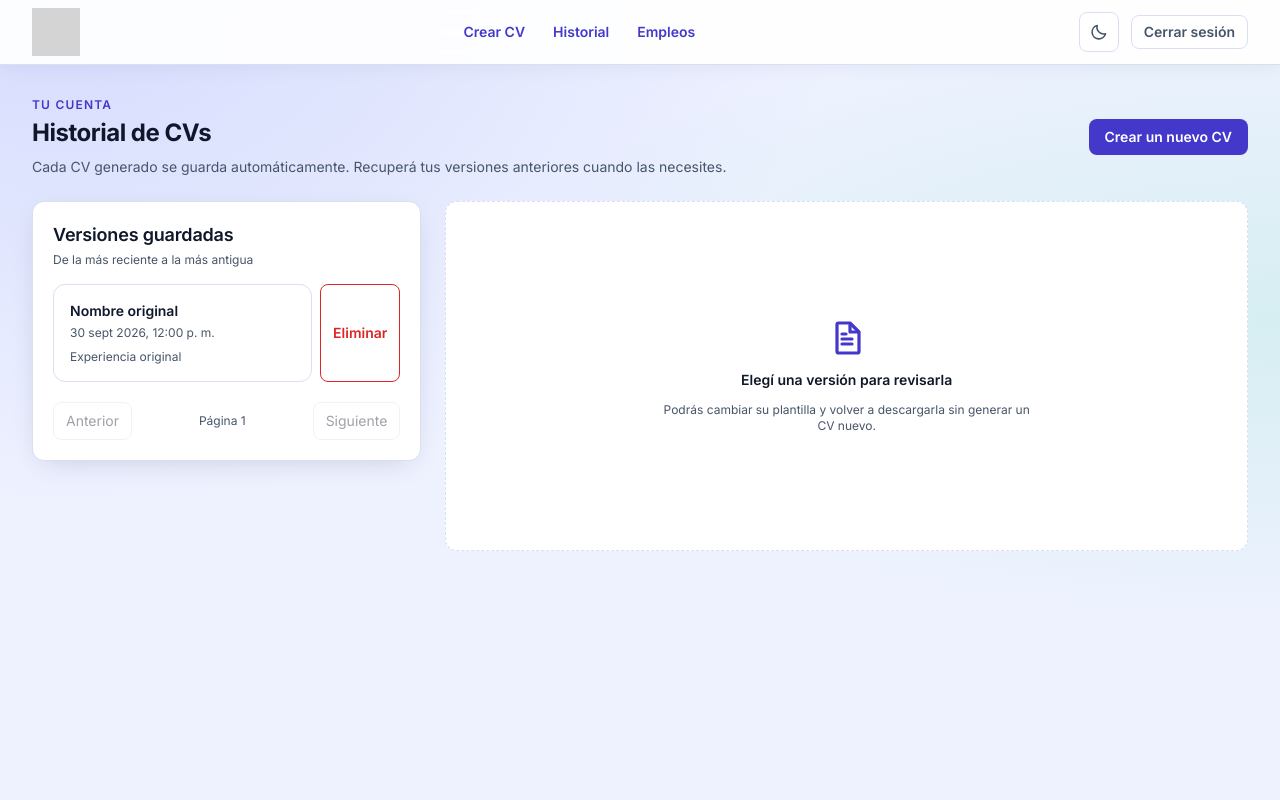
Test case: Historial de CVs › cancelar la confirmación conserva el CV y no envía la solicitud
Expected: the button with test id "history-item-resume-a" is shown, [53,284,312,382]
Click the button with test id "history-delete-resume-a": click(360, 333) [320,284,400,382]
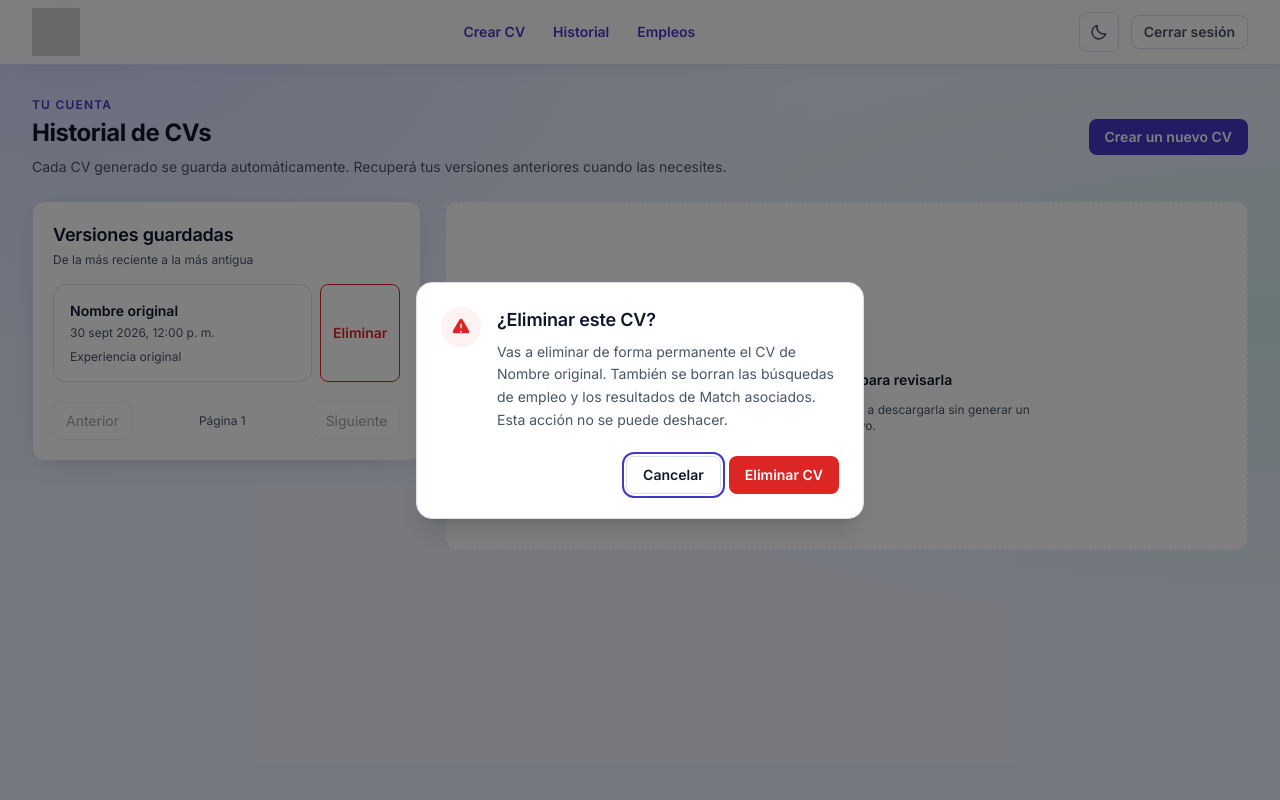
Expected: the dialog with test id "confirm-dialog" shows "Nombre original", [497,342,834,428]
Click the button with test id "confirm-dialog-cancel": click(673, 474) [626,456,721,494]
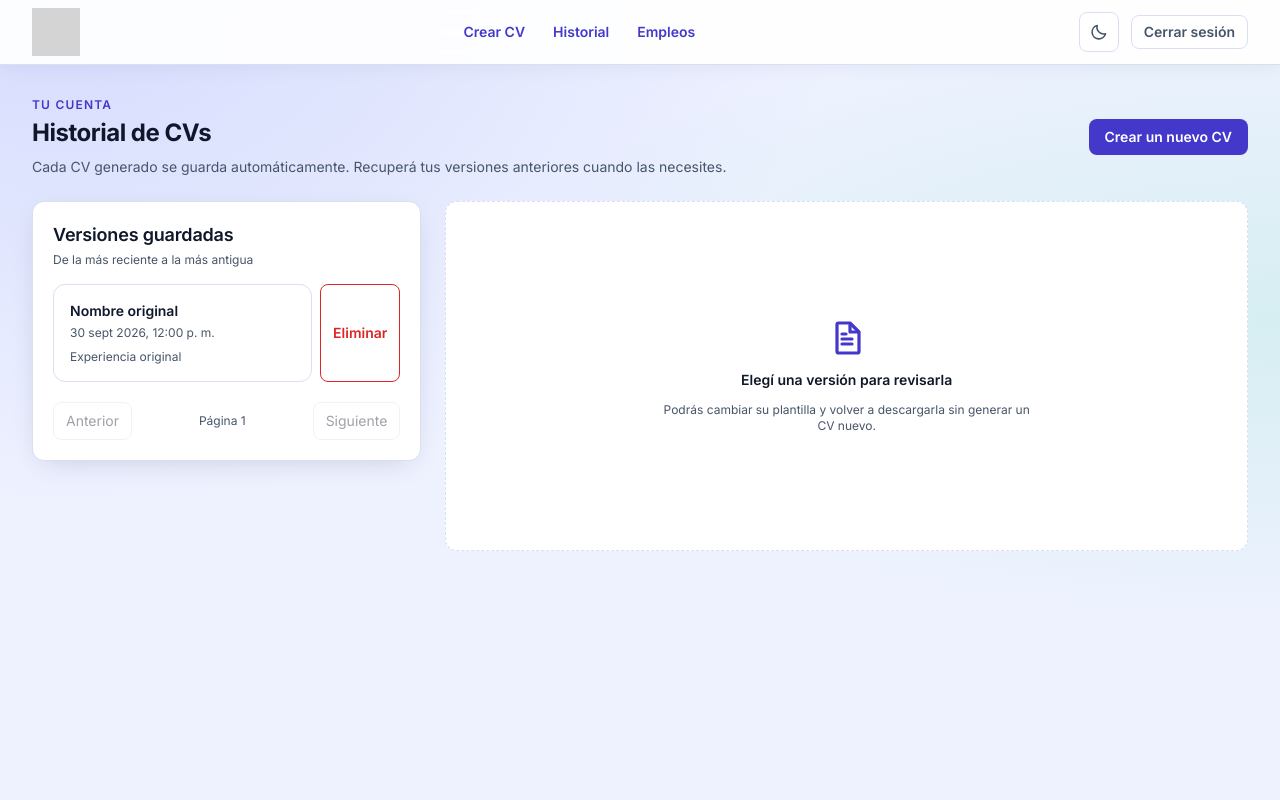
Expected: the button with test id "history-item-resume-a" is shown, [53,284,312,382]
Expected: the dialog with test id "confirm-dialog" is gone
